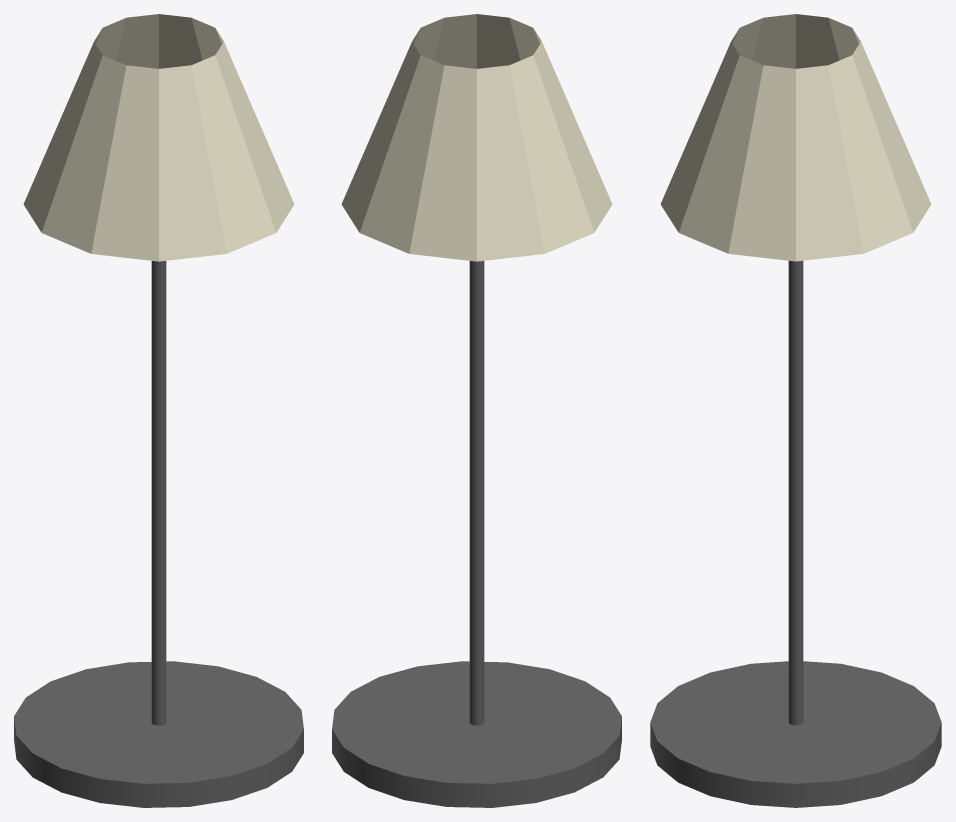
File: Lamp.fbx
The picture shows the model from 3 angles, left to right: view 1: azimuth 30°, elevation 25°; view 2: azimuth 150°, elevation 25°; view 3: azimuth 270°, elevation 25°; orthographic projection.
Visible parts, largest first — view 1: Lamp; view 2: Lamp; view 3: Lamp.
Boxes of the visible parts, x1=… form: Lamp: x1=14, y1=14, x2=303, y2=807; Lamp: x1=332, y1=14, x2=621, y2=807; Lamp: x1=650, y1=14, x2=941, y2=807.
Size of the model in its own units: 0.7659 by 2.04 by 0.7659.
